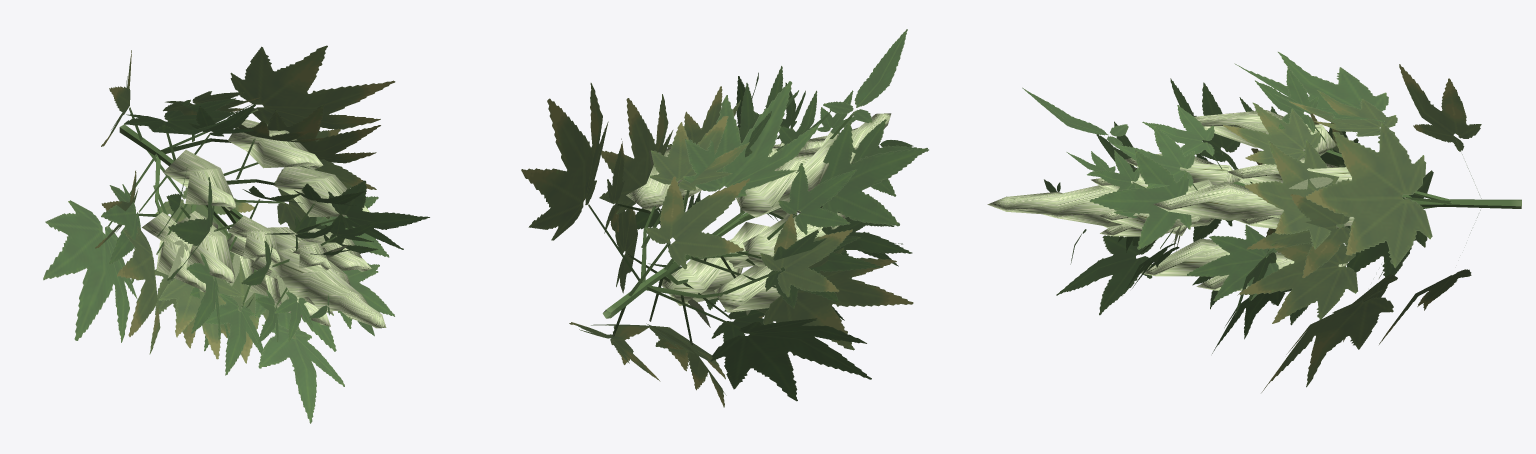
Rendered from p_frosty_tree_ripe_c0_cards.obj.
3 renders of one model, left to right at view 1: azimuth 30°, elevation 25°; view 2: azimuth 150°, elevation 25°; view 3: azimuth 270°, elevation 25°, orthographic. The views are drawn at different scales.
Bounding box in the file's own units: 1.63 × 1.31 × 1.81.
1 material, 1 textured.
